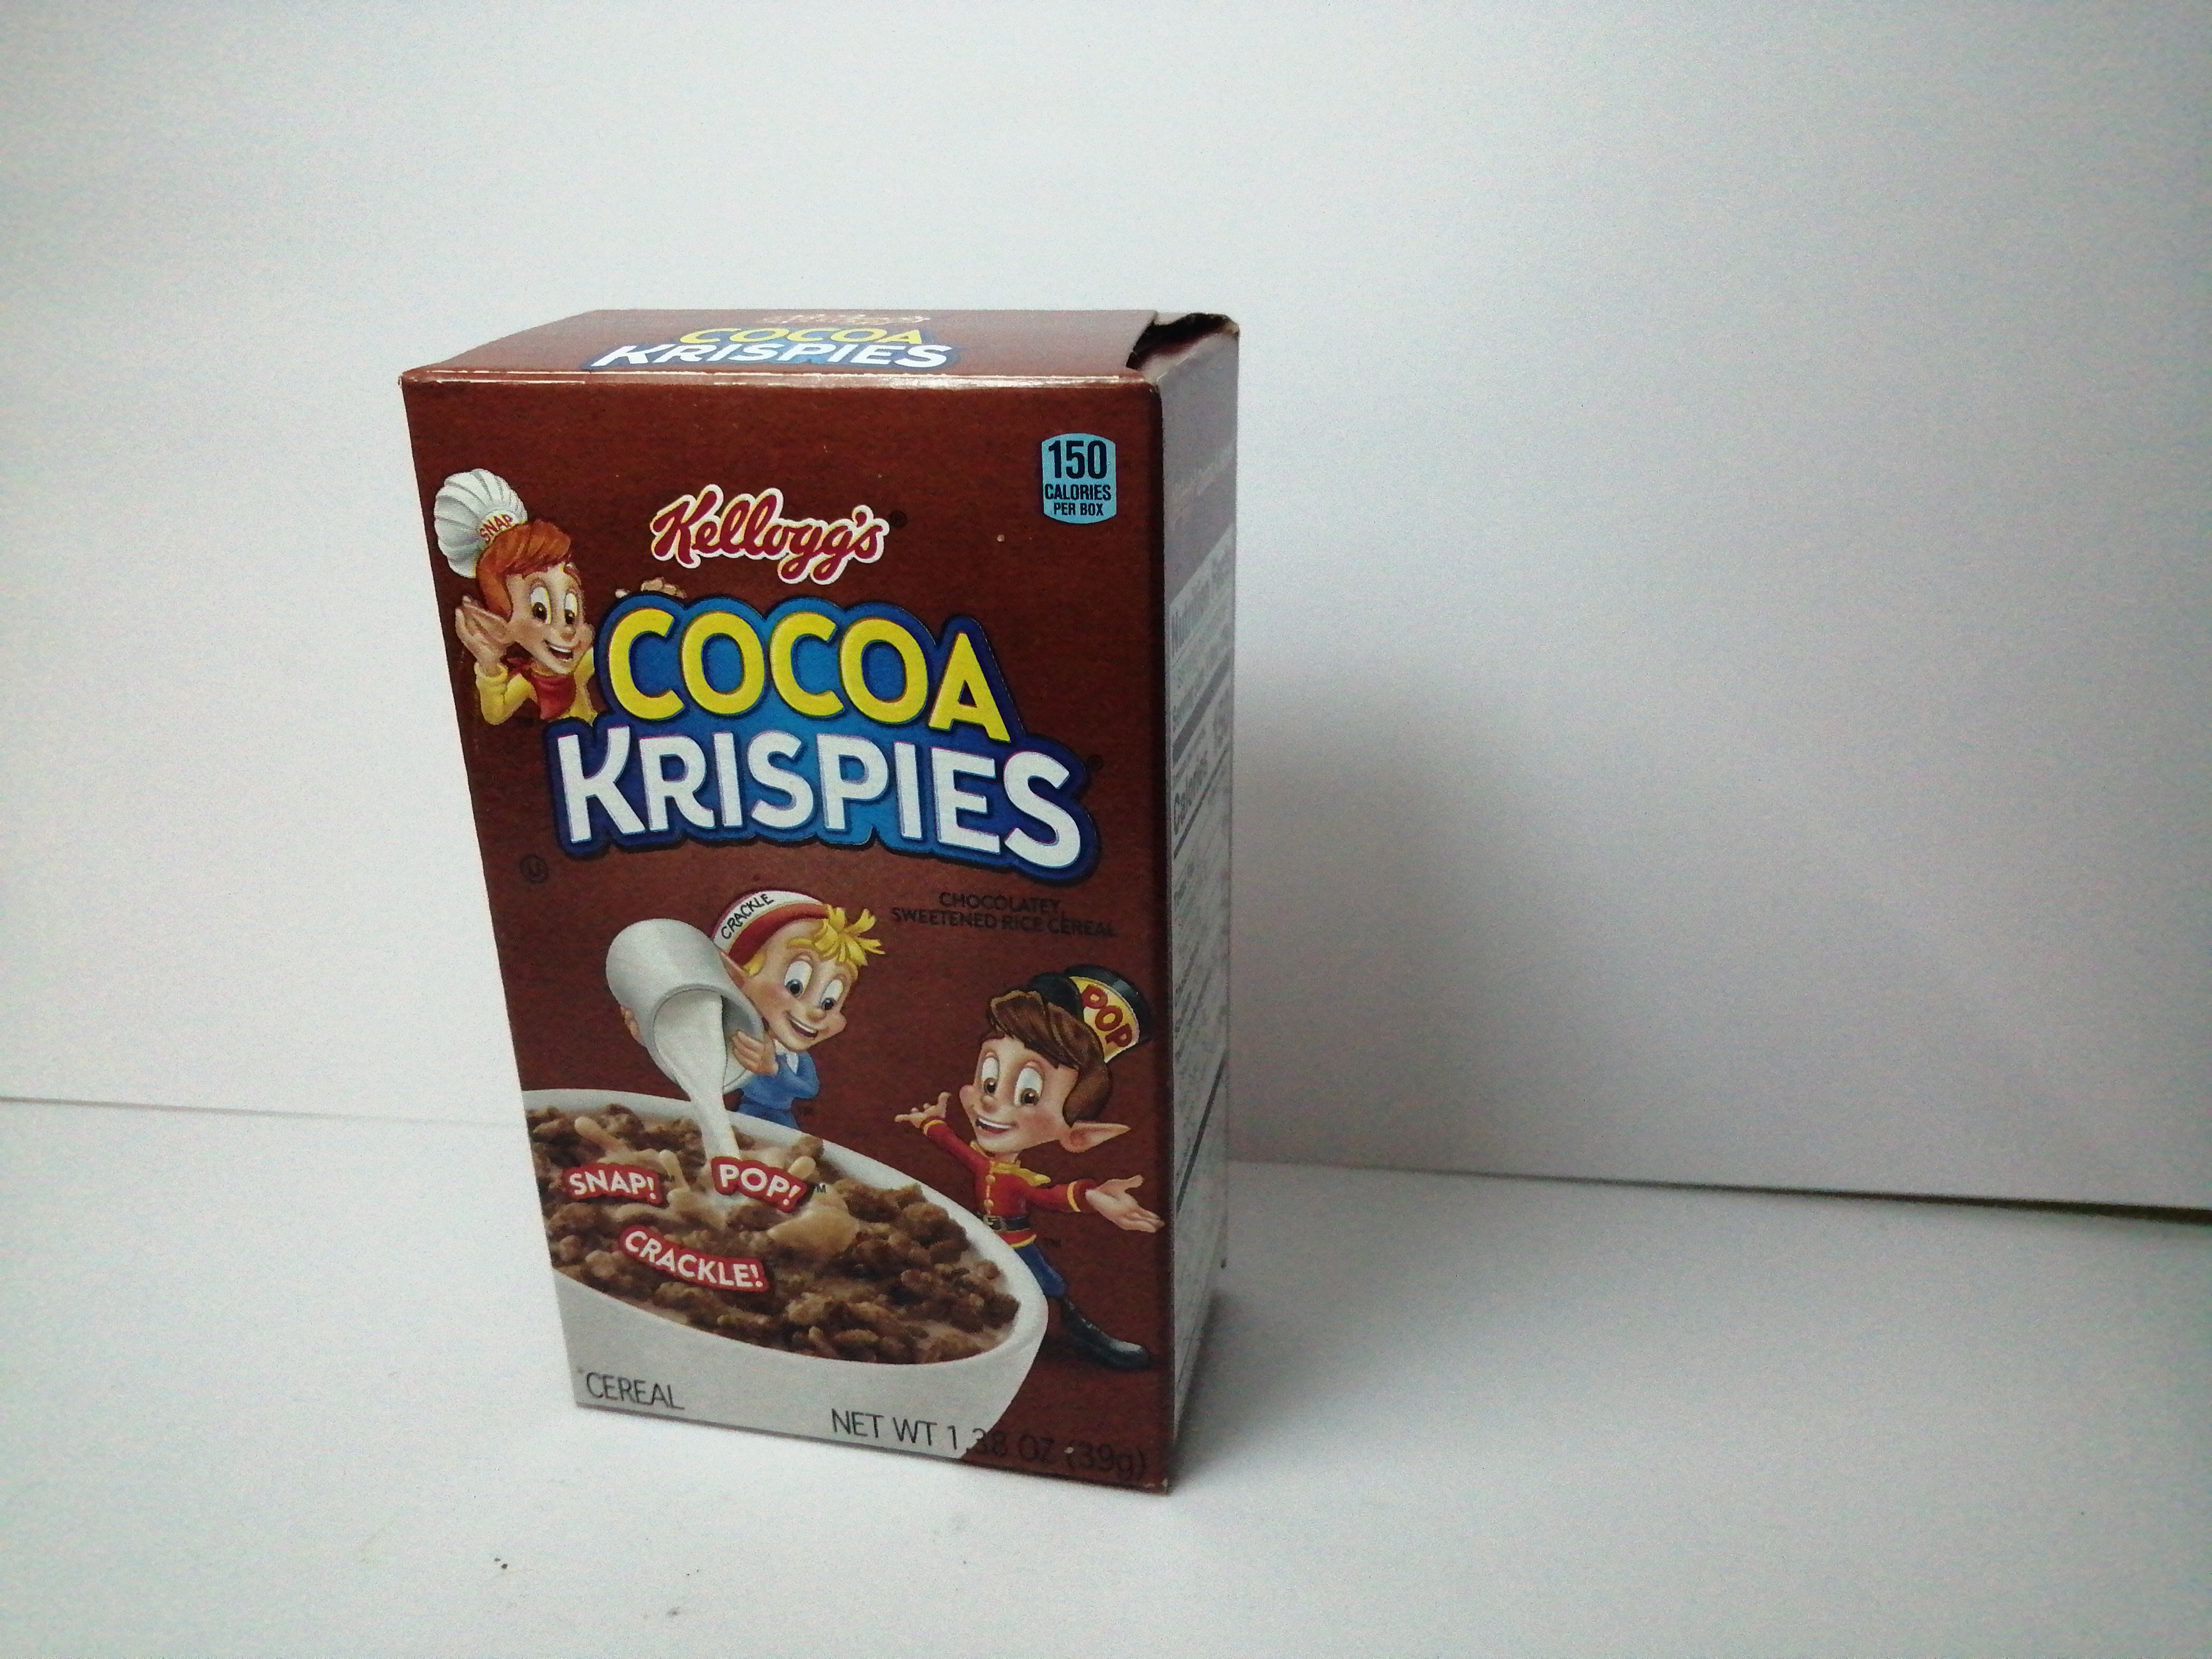cereal chocolate: (385, 281, 1315, 1497)
